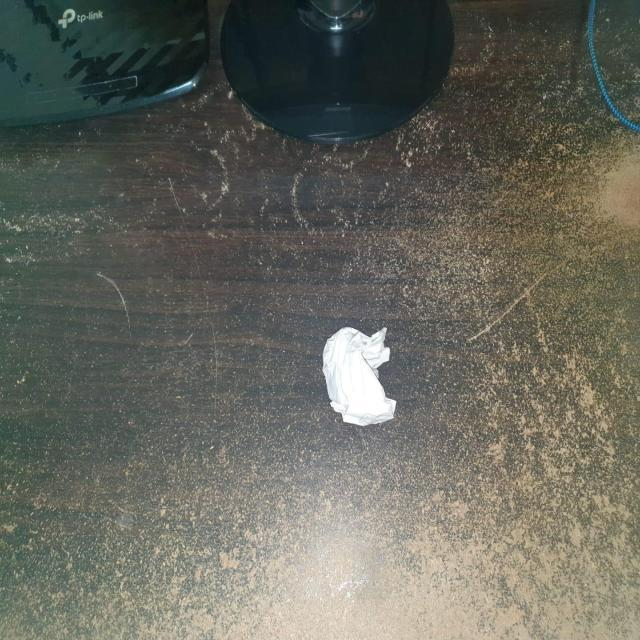cardboard paper: (319, 324, 396, 427), (322, 326, 394, 424)
